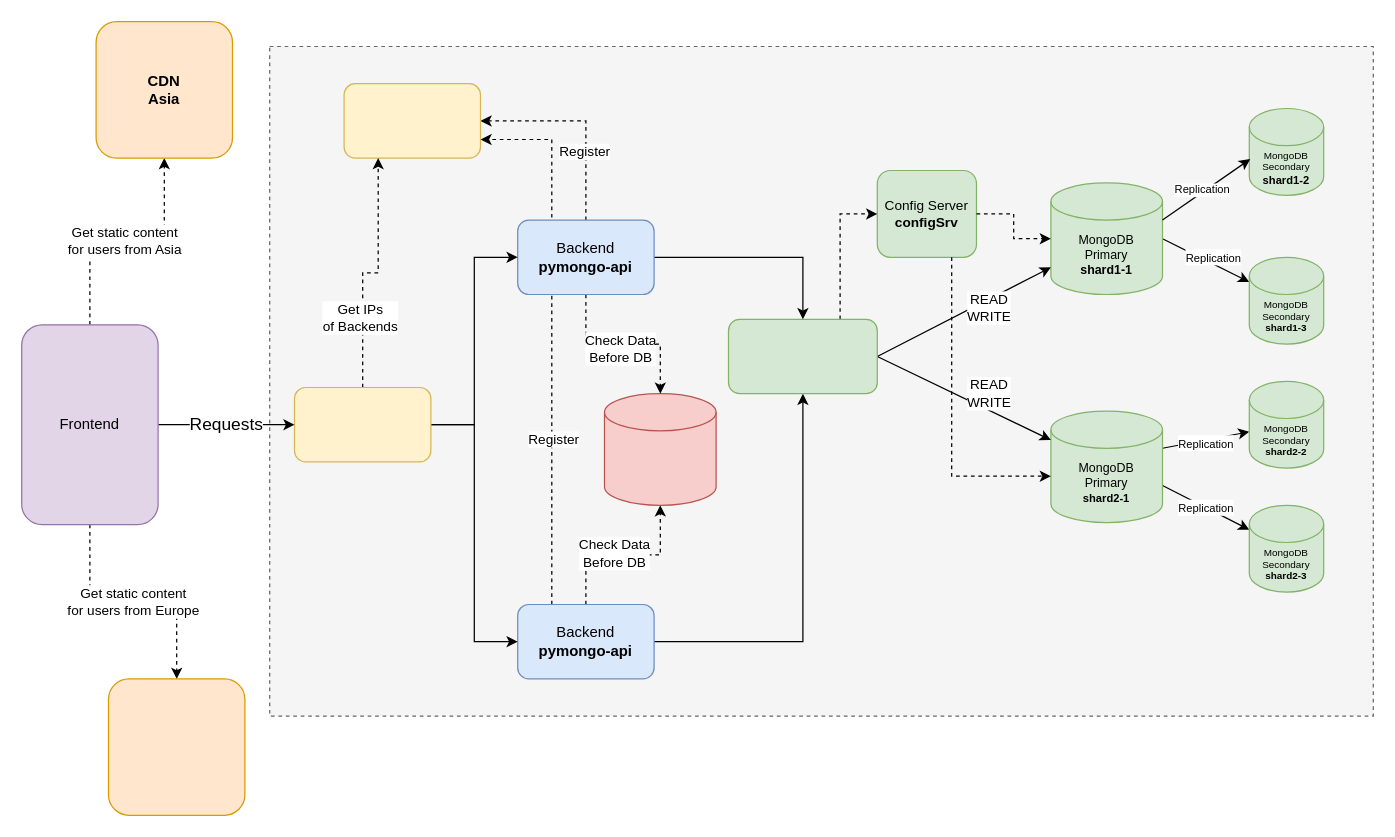
This 1395x837 diagram has some shape labels left out. Each missing label, with the box of its shape:
APISIX Gateway apisix: (293, 386, 431, 462)
Cache redis: (603, 392, 716, 505)
CDN Europe: (107, 678, 245, 815)
Router mongos: (727, 318, 877, 394)
Service Discovery consul: (343, 82, 480, 158)
